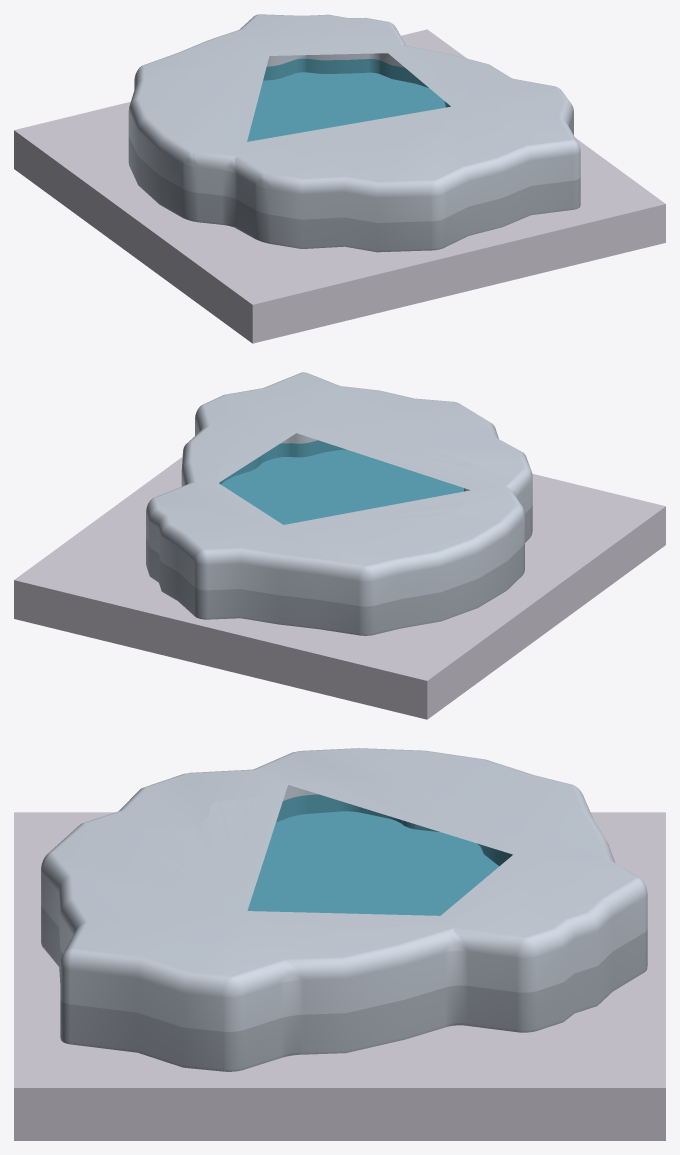
The model's file is ice_lake.fbx.
3 renders of one model, top to bottom at view 1: azimuth 30°, elevation 25°; view 2: azimuth 150°, elevation 25°; view 3: azimuth 270°, elevation 25°, orthographic. The views are drawn at different scales.
Parts seen in each view (by area): view 1: lake, Cube.025; view 2: lake, Cube.025; view 3: lake, Cube.025.
Boxes of the visible parts, x1=… form: lake: x1=128, y1=14, x2=580, y2=252; Cube.025: x1=14, y1=29, x2=665, y2=343; lake: x1=146, y1=372, x2=532, y2=635; Cube.025: x1=14, y1=457, x2=665, y2=719; lake: x1=41, y1=748, x2=647, y2=1071; Cube.025: x1=14, y1=812, x2=665, y2=1140.
Size of the model in its own units: 447 by 109 by 447.
